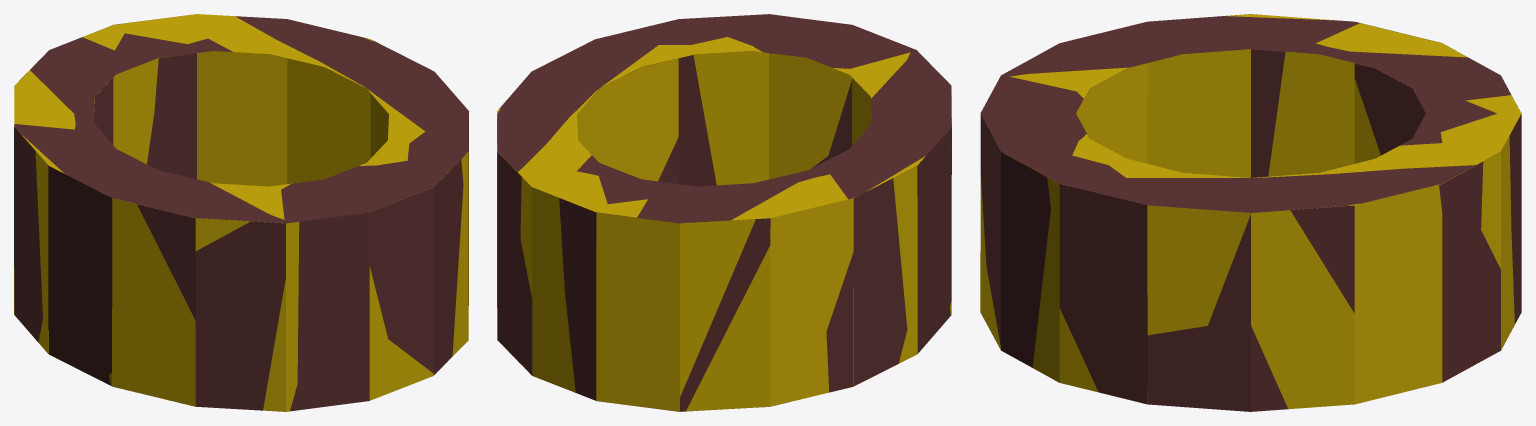
Rendered from original-14.obj.
The picture shows the model from 3 angles, left to right: view 1: azimuth 30°, elevation 25°; view 2: azimuth 150°, elevation 25°; view 3: azimuth 270°, elevation 25°; orthographic projection. The views are drawn at different scales.
Visible parts, largest first — view 1: #ID87; view 2: #ID87; view 3: #ID87.
Boxes of the visible parts, x1,y1,x2,y2 form: #ID87: (14, 14, 468, 411); #ID87: (497, 14, 951, 411); #ID87: (980, 14, 1521, 411).
Bounding box in the file's own units: 0.3107 × 0.1451 × 0.3573.
